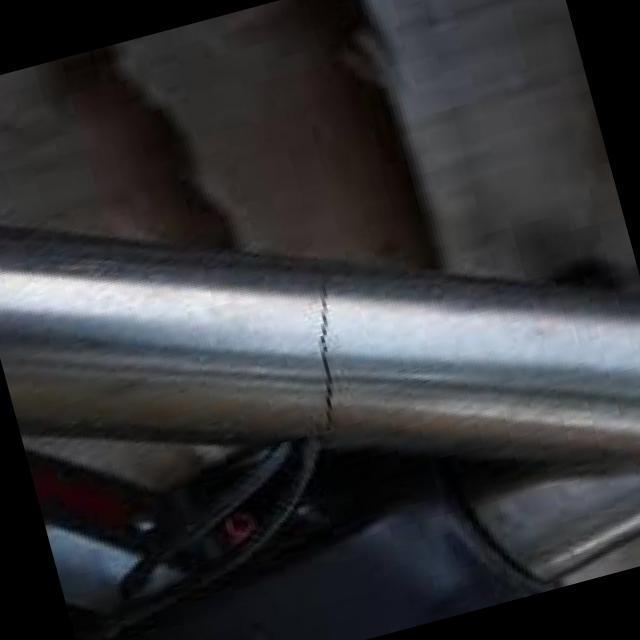defect: (315, 276, 338, 437)
